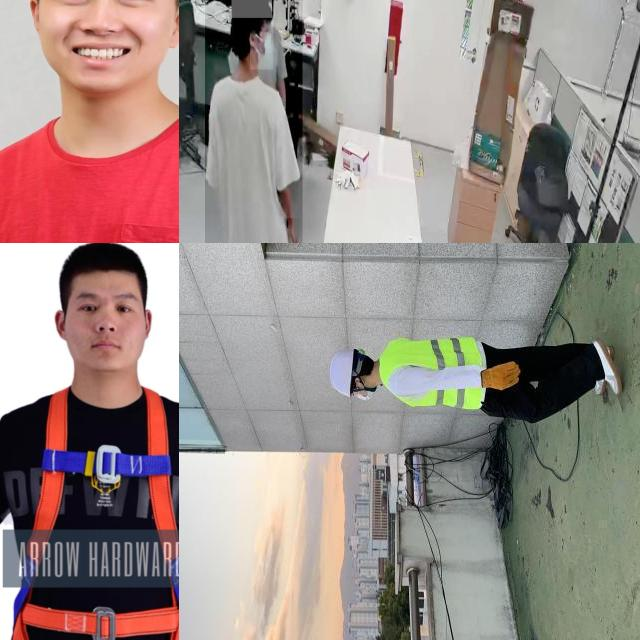Harness: (3, 384, 179, 640)
No_Ear-Protection: (153, 0, 179, 55)
No_Glasses: (72, 288, 140, 328), (39, 0, 166, 18)
boots: (588, 335, 628, 401)
face_mask: (250, 20, 274, 70)
hand_noglove: (286, 218, 299, 243)
head_helmet: (329, 344, 358, 403)
head_nohelmet: (231, 0, 272, 18)
person: (271, 296, 640, 441), (205, 0, 303, 243)
vest: (375, 335, 489, 413)
